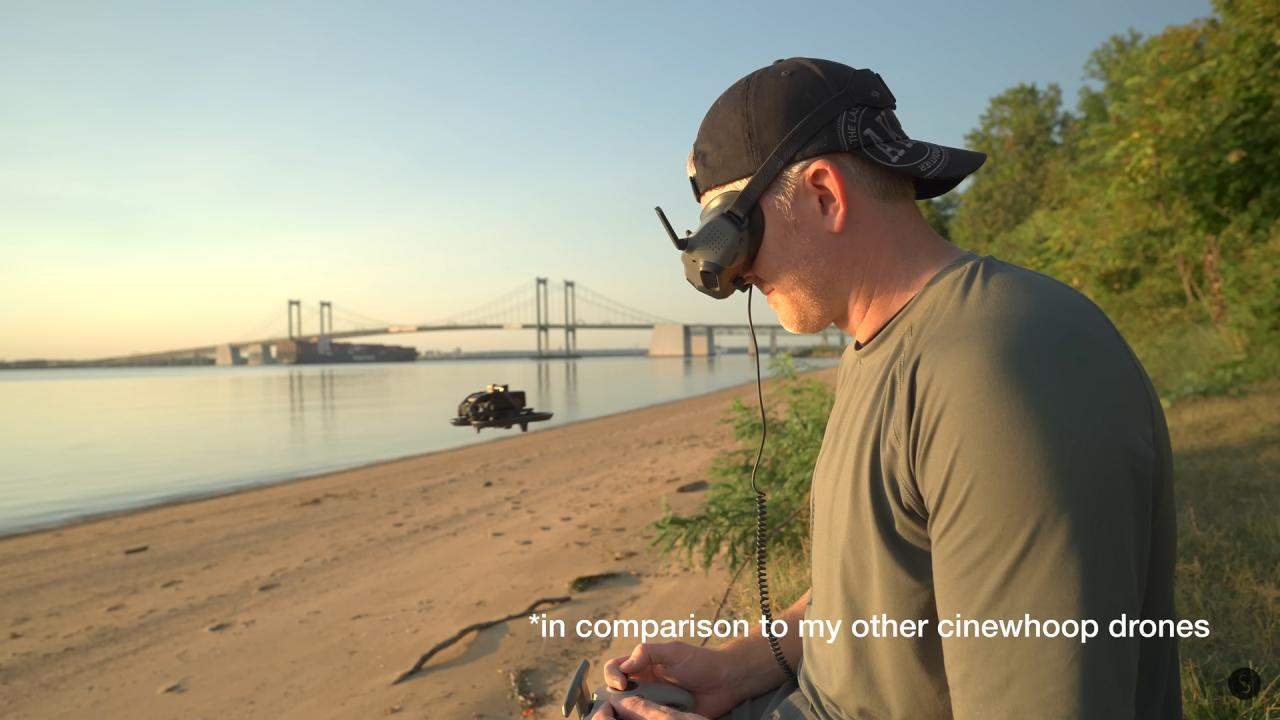Drone: (441, 375, 560, 441)
